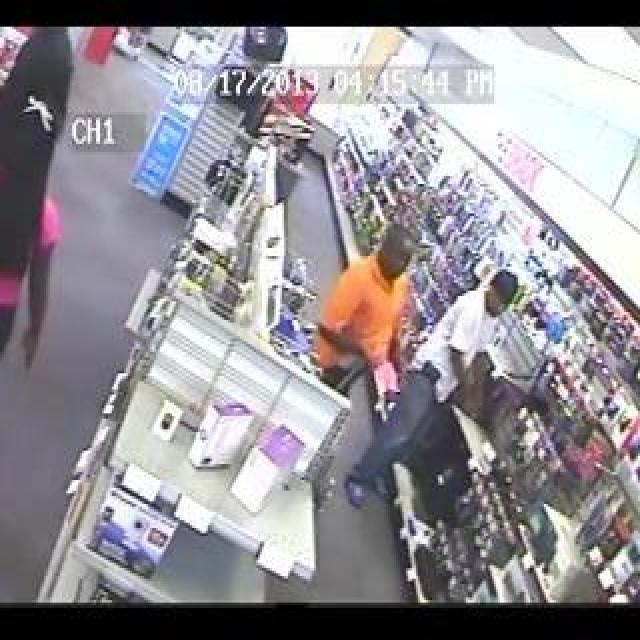Shoplifting: (299, 164, 541, 584)
